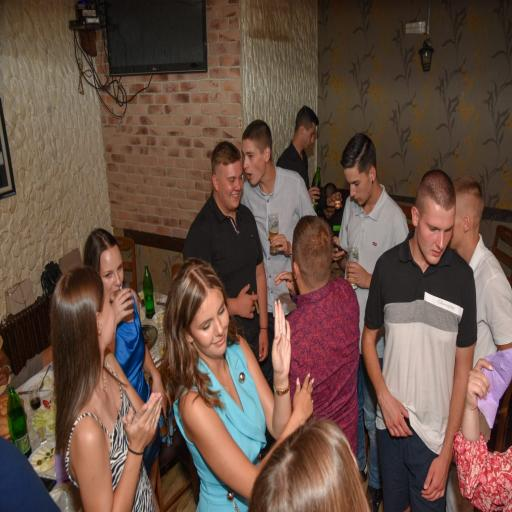marija: (97, 247, 129, 305)
